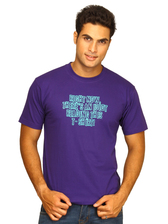clothoes: (18, 60, 150, 203)
